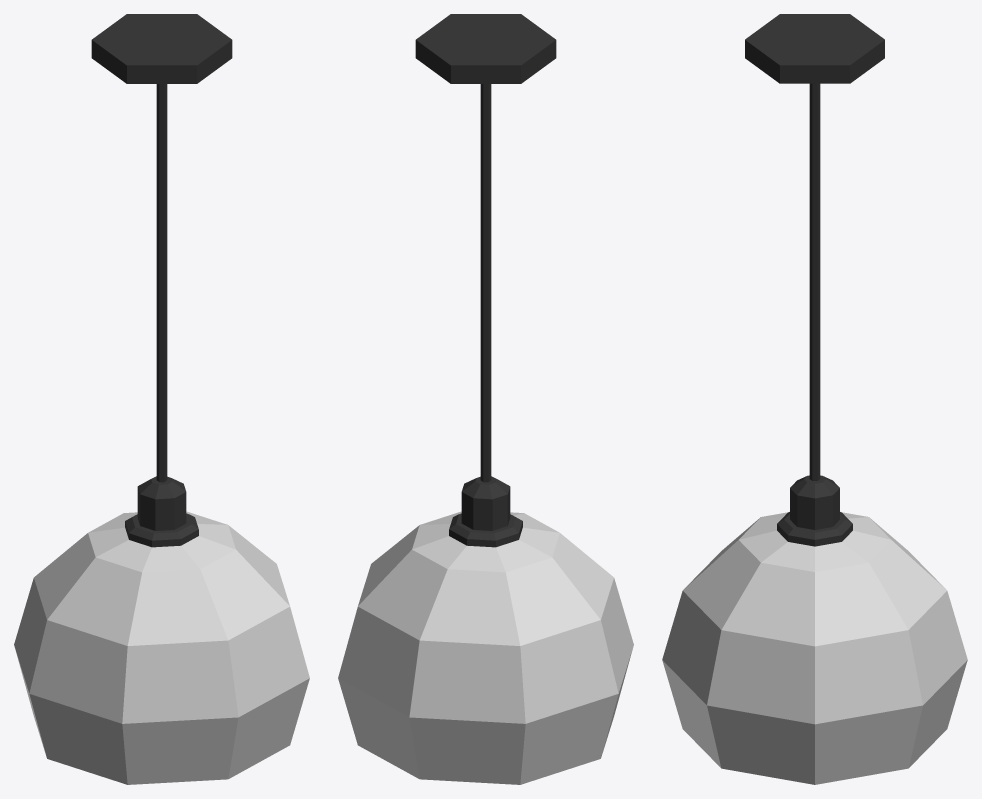
Rendered from SM_Props_Interior_Shop_Light_CeilingLight_06.fbx.
The picture shows the model from 3 angles, left to right: view 1: azimuth 30°, elevation 25°; view 2: azimuth 150°, elevation 25°; view 3: azimuth 270°, elevation 25°; orthographic projection.
Parts seen in each view (by area): view 1: SM_Props_Interior_Shop_Light_CeilingLight_06; view 2: SM_Props_Interior_Shop_Light_CeilingLight_06; view 3: SM_Props_Interior_Shop_Light_CeilingLight_06.
Part boxes in pixels (left/top/right/bottom): SM_Props_Interior_Shop_Light_CeilingLight_06: left=14, top=14, right=309, bottom=784; SM_Props_Interior_Shop_Light_CeilingLight_06: left=338, top=14, right=633, bottom=784; SM_Props_Interior_Shop_Light_CeilingLight_06: left=662, top=14, right=967, bottom=784.
Size of the model in its own units: 30 by 74.66 by 30.
